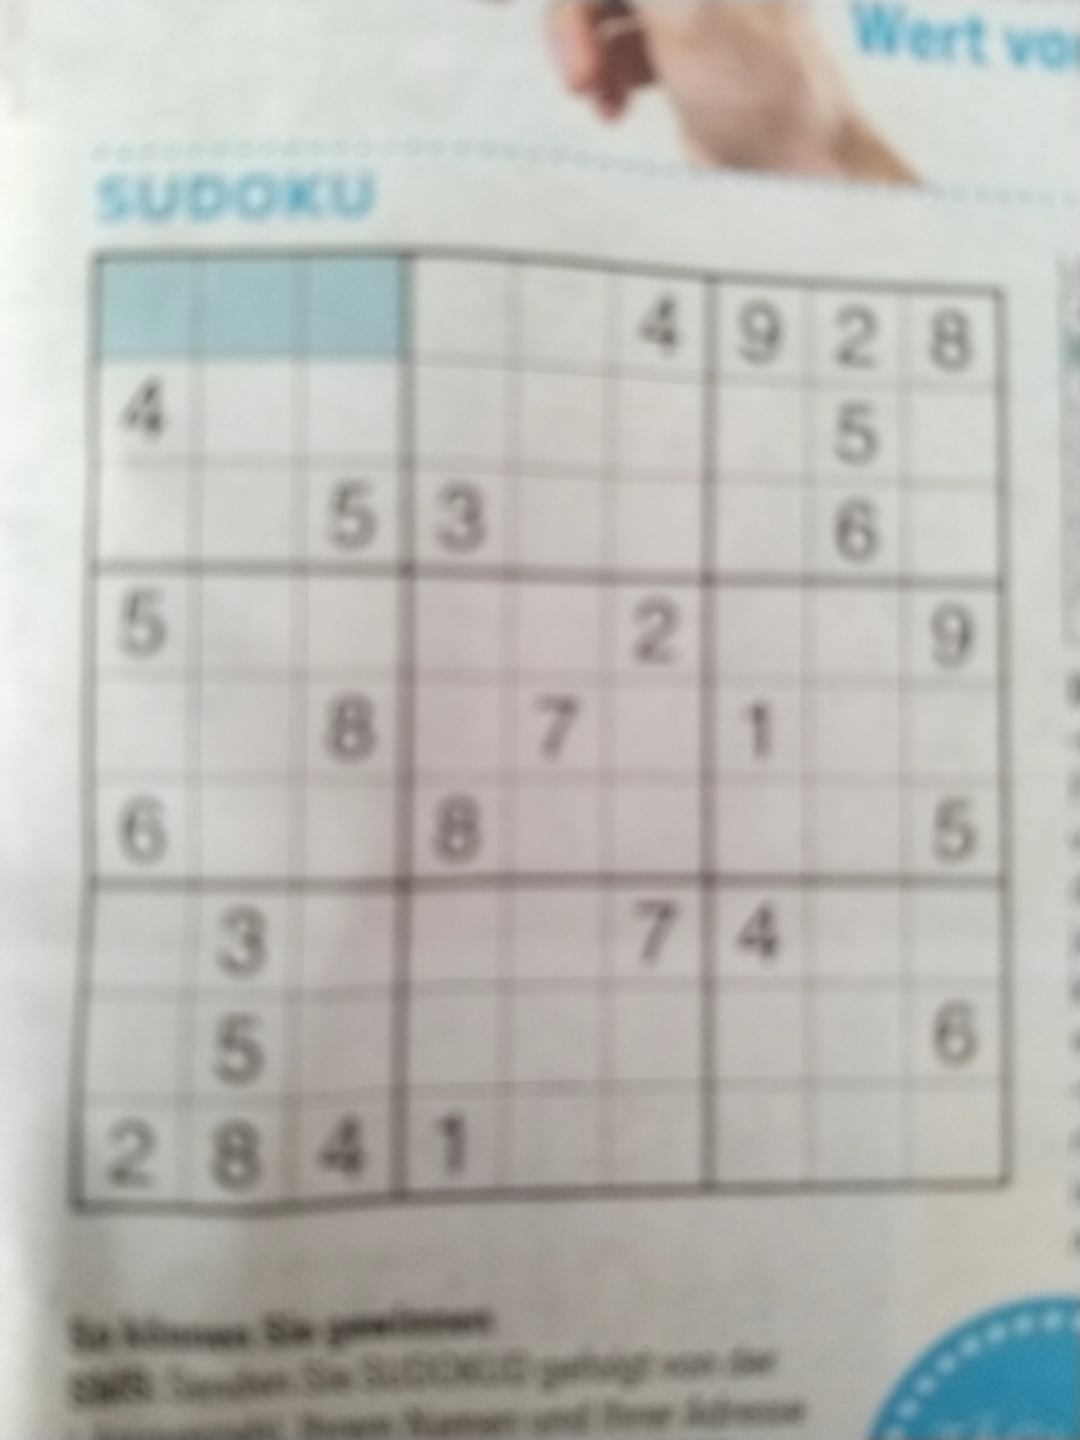sudoku: (67, 246, 1011, 1217)
